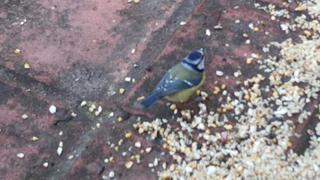blue tit: (140, 45, 207, 109)
